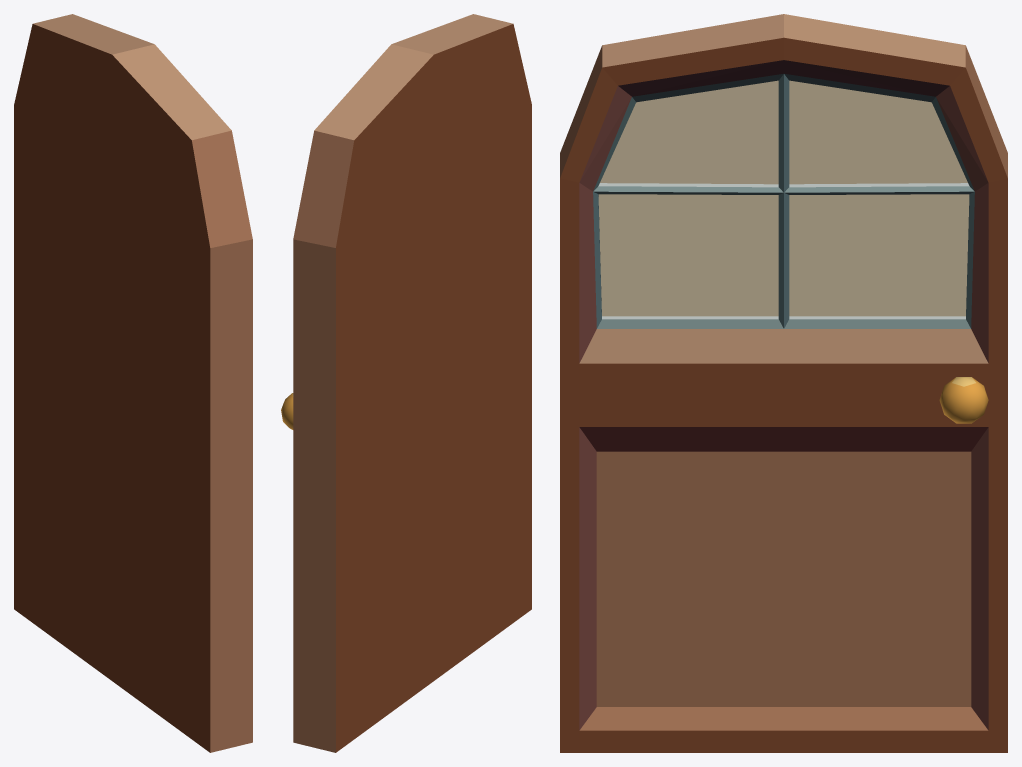
Rendered from door.fbx.
The picture shows the model from 3 angles, left to right: view 1: azimuth 30°, elevation 25°; view 2: azimuth 150°, elevation 25°; view 3: azimuth 270°, elevation 25°; orthographic projection. The views are drawn at different scales.
Parts seen in each view (by area): view 1: Door; view 2: Door; view 3: Door.
Boxes of the visible parts, x1,y1,x2,y2 form: Door: (14,14,252,752); Door: (281,14,531,752); Door: (560,14,1007,752).
Bounding box in the file's own units: 2 × 0.4163 × 3.52.
